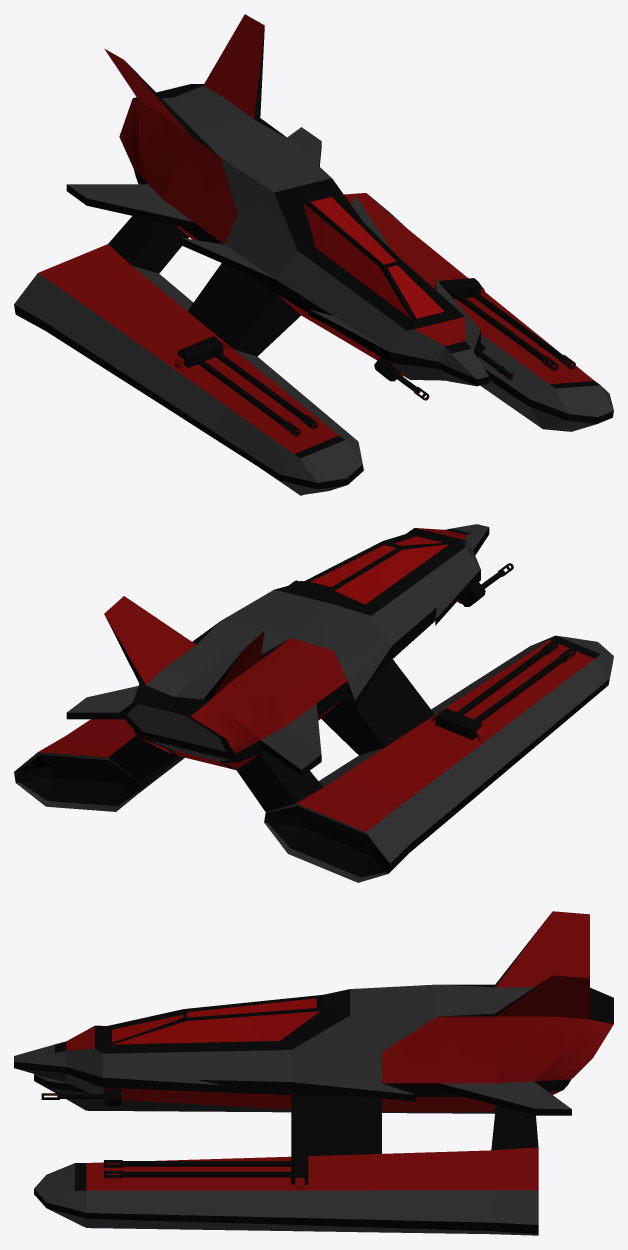
Rendered from enemyspeeder.fbx.
3 renders of one model, top to bottom at view 1: azimuth 30°, elevation 25°; view 2: azimuth 150°, elevation 25°; view 3: azimuth 270°, elevation 25°, orthographic. The views are drawn at different scales.
Parts seen in each view (by area): view 1: enemyspeeder; view 2: enemyspeeder; view 3: enemyspeeder.
Part boxes in pixels (box(x1,y1,x2,y2)): enemyspeeder: box(14, 14, 613, 495); enemyspeeder: box(14, 524, 613, 882); enemyspeeder: box(14, 911, 613, 1235).
Size of the model in its own units: 11.44 by 6.9 by 16.95.
